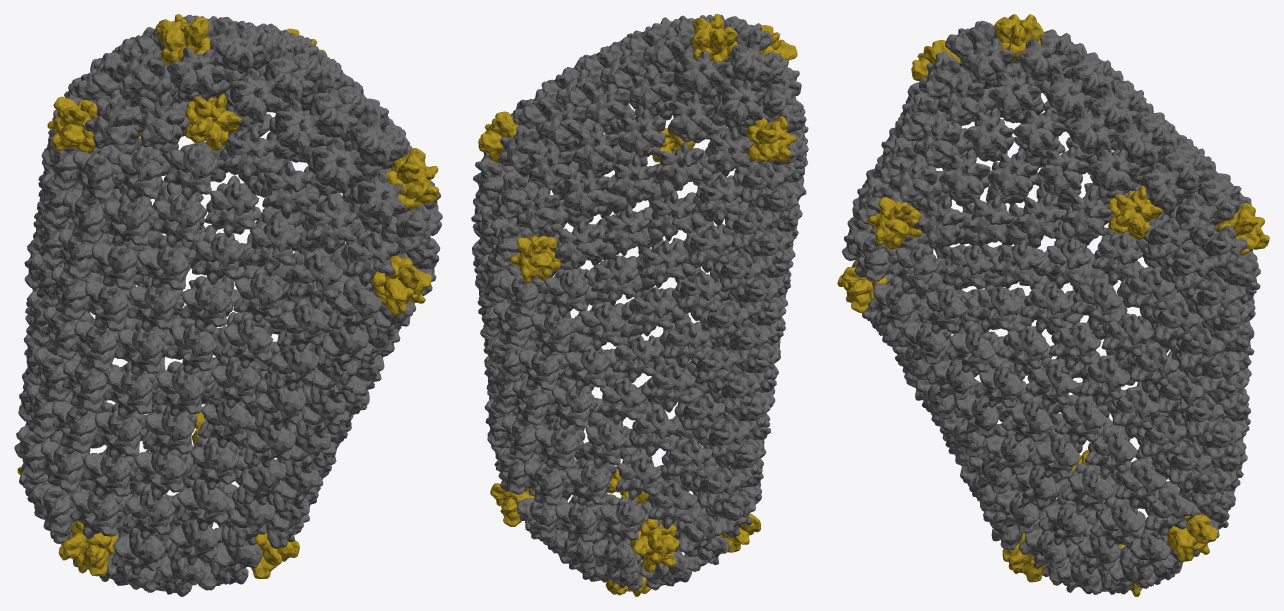
Rendered from HIV1_capside_3j3q_Rep_Med_0_2_1.dae.
3 views of the same model, side by side, from view 1: azimuth 30°, elevation 25°; view 2: azimuth 150°, elevation 25°; view 3: azimuth 270°, elevation 25° (orthographic). The views are drawn at different scales.
Visible parts, largest first — view 1: node_node_HIV1_capsid_3j3q_Rep_Med_Pent_0_1_0 (×7); view 2: node_node_HIV1_capsid_3j3q_Rep_Med_Pent_0_1_0 (×6), node_node_HIV1_capsid_3j3q_Rep_Med_0_1_0; view 3: no part large enough to name.
Boxes of the visible parts, x1,y1,x2,y2 form: node_node_HIV1_capsid_3j3q_Rep_Med_Pent_0_1_0 (×7): (60,22,429,562); node_node_HIV1_capsid_3j3q_Rep_Med_Pent_0_1_0 (×6): (480,28,781,556); node_node_HIV1_capsid_3j3q_Rep_Med_0_1_0: (681,507,706,542).
Bounding box in the file's own units: 636 × 1158 × 810.
